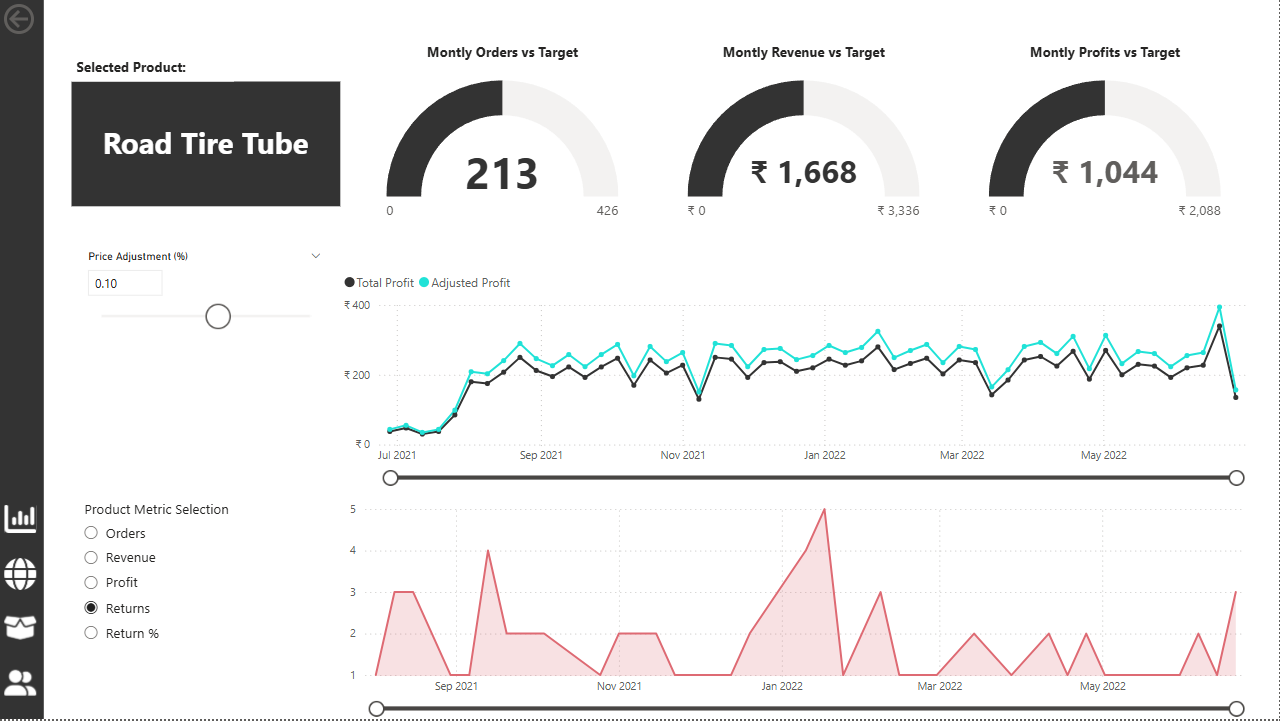

This screenshot's page, from the dashboard's own definition file:
{"tool":"powerbi","page":{"name":"Product Details","canvas":[1280,720],"ordinal":34},"visuals":[{"type":"shape","box":[0,0,45,720],"z":0},{"type":"gauge","title":"Montly Orders vs Target","fields":{"Y":["Measure Table.Total Orders"],"TargetValue":["Measure Table.Order Target"]},"box":[382.7,44,242.1,201.8],"z":1001},{"type":"gauge","title":"Montly Revenue vs Target","fields":{"Y":["Measure Table.Total Revenue (CC)"],"TargetValue":["Measure Table.Revenue Target"]},"box":[683.6,44,242.1,201.8],"z":1002},{"type":"gauge","title":"Montly Profits vs Target","fields":{"Y":["Measure Table.Total Profit"],"TargetValue":["Measure Table.Profit Target"]},"box":[984.4,44,242.1,201.8],"z":1003},{"type":"lineChart","title":"Profits Trending","fields":{"Category":["Calendar Lookup.Date Hierarchy.Start of Week"],"Y":["Measure Table.Total Profit","Measure Table.Adjusted Profit"]},"box":[340,264,926,226],"z":1004},{"type":"areaChart","title":"Return Trending","fields":{"Category":["Calendar Lookup.Date Hierarchy.Start of Week"],"Y":["Measure Table.Return Rate"]},"box":[340,496,926,224],"z":1005},{"type":"actionButton","box":[0,0,100,40],"z":1006},{"type":"card","fields":{"Values":["Min(Product Lookup.ProductName)"]},"box":[72.5,82.5,268.8,125],"z":1007},{"type":"textbox","box":[72.5,53.8,162.5,28.8],"z":1008},{"type":"actionButton","box":[1,500,46,40],"z":1009},{"type":"actionButton","box":[1,554.7,46,40],"z":1010},{"type":"actionButton","box":[1,609.3,46,40],"z":1011},{"type":"actionButton","box":[1,664,46,40],"z":1012},{"type":"slicer","fields":{"Values":["Price Adjustment (%).Price Adjustment (%)"]},"box":[76,246,258,140],"z":1013},{"type":"slicer","fields":{"Values":["Product Metric Selection.Product Metric Selection"]},"box":[72,496,262,190],"z":1014}]}

Visuals, with their boxes on the page's 1280x720 design canvas (x1, y1, x2, y2). These are canvas units, not pixel positions in the 1280x721 screenshot, which may show the page scaled, cropped or inside an application window:
shape: region(0, 0, 45, 720)
"Montly Orders vs Target" gauge: region(383, 44, 625, 246)
"Montly Revenue vs Target" gauge: region(684, 44, 926, 246)
"Montly Profits vs Target" gauge: region(984, 44, 1226, 246)
"Profits Trending" lineChart: region(340, 264, 1266, 490)
"Return Trending" areaChart: region(340, 496, 1266, 720)
actionButton: region(0, 0, 100, 40)
card - Min(Product Lookup.ProductName): region(72, 82, 341, 208)
textbox: region(72, 54, 235, 83)
actionButton: region(1, 500, 47, 540)
actionButton: region(1, 555, 47, 595)
actionButton: region(1, 609, 47, 649)
actionButton: region(1, 664, 47, 704)
slicer - Price Adjustment (%).Price Adjustment (%): region(76, 246, 334, 386)
slicer - Product Metric Selection.Product Metric Selection: region(72, 496, 334, 686)
